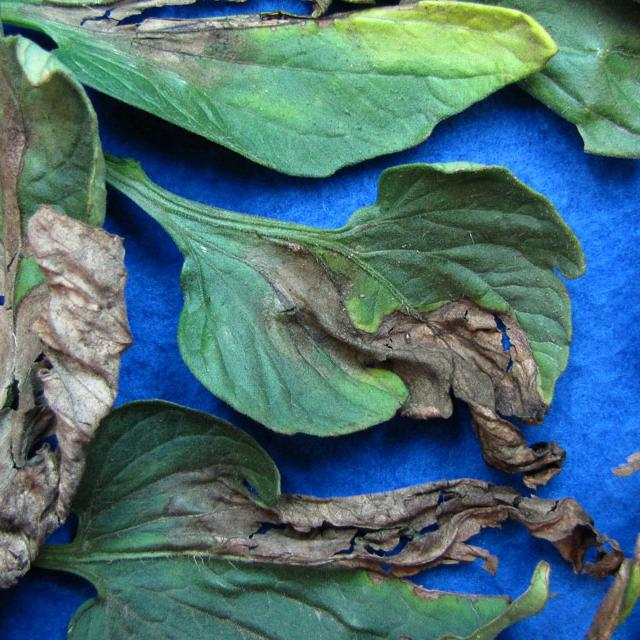Tomato leaf late blight: (0, 393, 594, 640), (128, 156, 599, 436), (0, 0, 531, 171), (0, 0, 136, 533), (623, 0, 640, 561)
